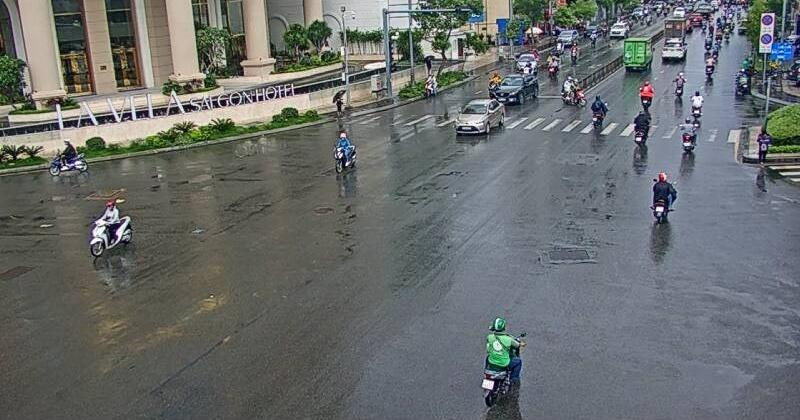xe may: (479, 317, 525, 404), (88, 202, 129, 256), (454, 97, 503, 134), (650, 171, 678, 224), (50, 138, 85, 180), (332, 130, 357, 173), (561, 75, 586, 108), (678, 117, 698, 153), (590, 94, 609, 130), (633, 109, 650, 145), (638, 81, 654, 111), (689, 89, 705, 118)
